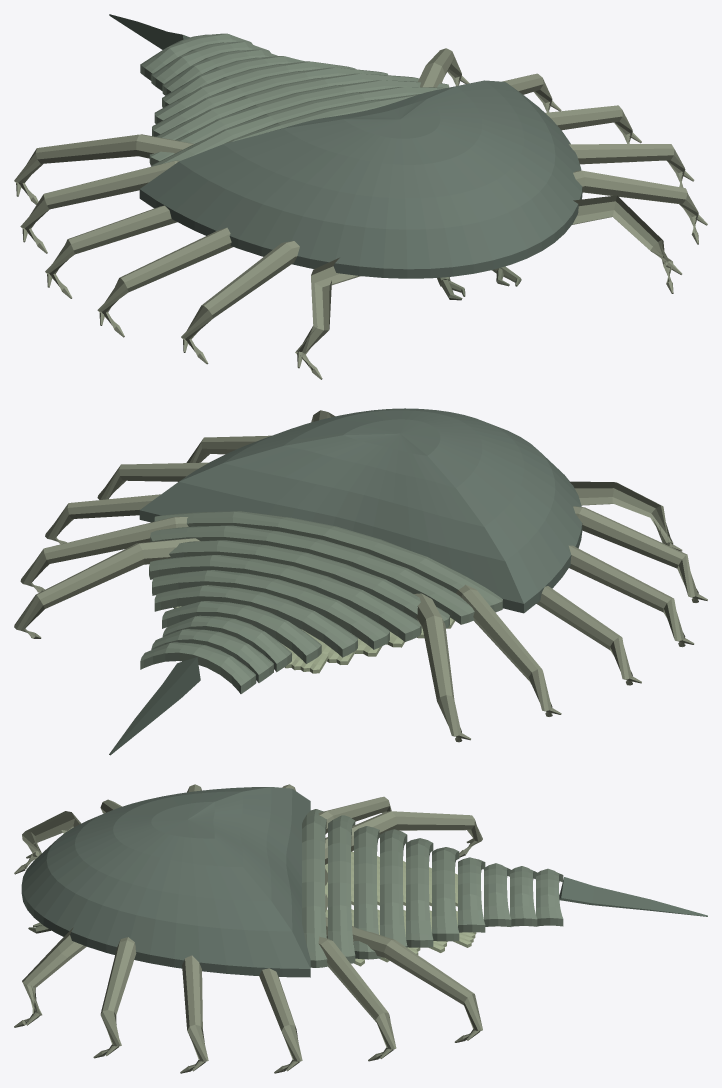
3 views of the same model, one above another, from view 1: azimuth 30°, elevation 25°; view 2: azimuth 150°, elevation 25°; view 3: azimuth 270°, elevation 25° (orthographic). The views are drawn at different scales.
Parts seen in each view (by area): view 1: Prosoma-vaulted-shield, Six-pairs-walking-legs, Opisthosoma-ten-free-tergites, Triangular-tapering-telson, One-pair-chelicerae; view 2: Prosoma-vaulted-shield, Opisthosoma-ten-free-tergites, Six-pairs-walking-legs, Triangular-tapering-telson, Six-inferred-blade-foot-groups; view 3: Prosoma-vaulted-shield, Opisthosoma-ten-free-tergites, Six-pairs-walking-legs, Triangular-tapering-telson, Six-inferred-blade-foot-groups.
Part boxes in pixels (x1,y1,x2,y2): Prosoma-vaulted-shield: (139, 80, 582, 278); Six-pairs-walking-legs: (14, 48, 707, 379); Opisthosoma-ten-free-tergites: (140, 33, 449, 166); Triangular-tapering-telson: (109, 14, 189, 49); One-pair-chelicerae: (437, 266, 521, 300); Prosoma-vaulted-shield: (139, 408, 582, 613); Opisthosoma-ten-free-tergites: (140, 511, 502, 693); Six-pairs-walking-legs: (14, 410, 707, 742); Triangular-tapering-telson: (109, 657, 200, 755); Six-inferred-blade-foot-groups: (173, 606, 454, 673); Prosoma-vaulted-shield: (21, 787, 310, 977); Opisthosoma-ten-free-tergites: (302, 809, 563, 967); Six-pairs-walking-legs: (14, 784, 482, 1073); Triangular-tapering-telson: (559, 877, 707, 916); Six-inferred-blade-foot-groups: (325, 851, 476, 966).
Size of the model in its own units: 0.085 by 0.0201 by 0.0961.
